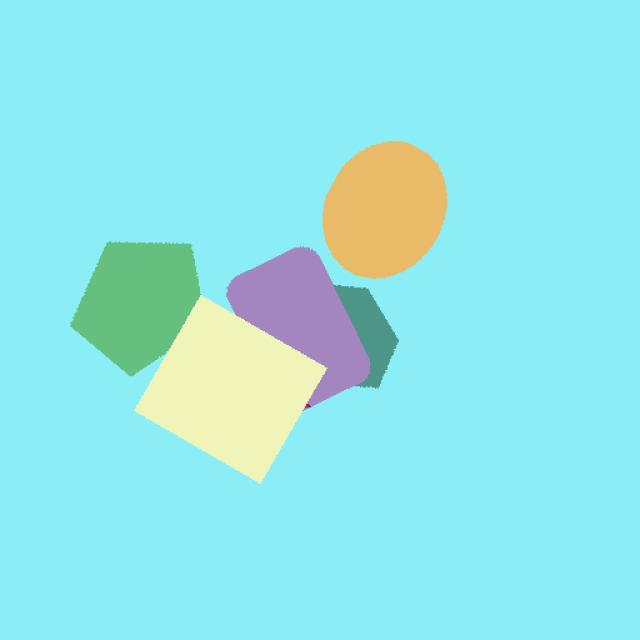Circle: (317, 124, 468, 280)
Hexagon: (301, 270, 421, 398)
Pentagon: (54, 214, 215, 386)
Rectangle: (118, 287, 326, 498), (224, 235, 382, 426)
